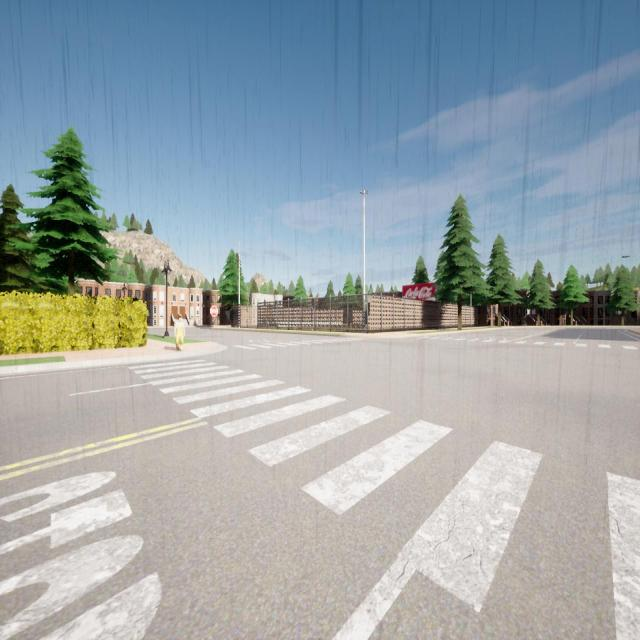Pedestrian: (172, 314, 185, 352)
Traffic_Signs: (210, 306, 218, 316)
